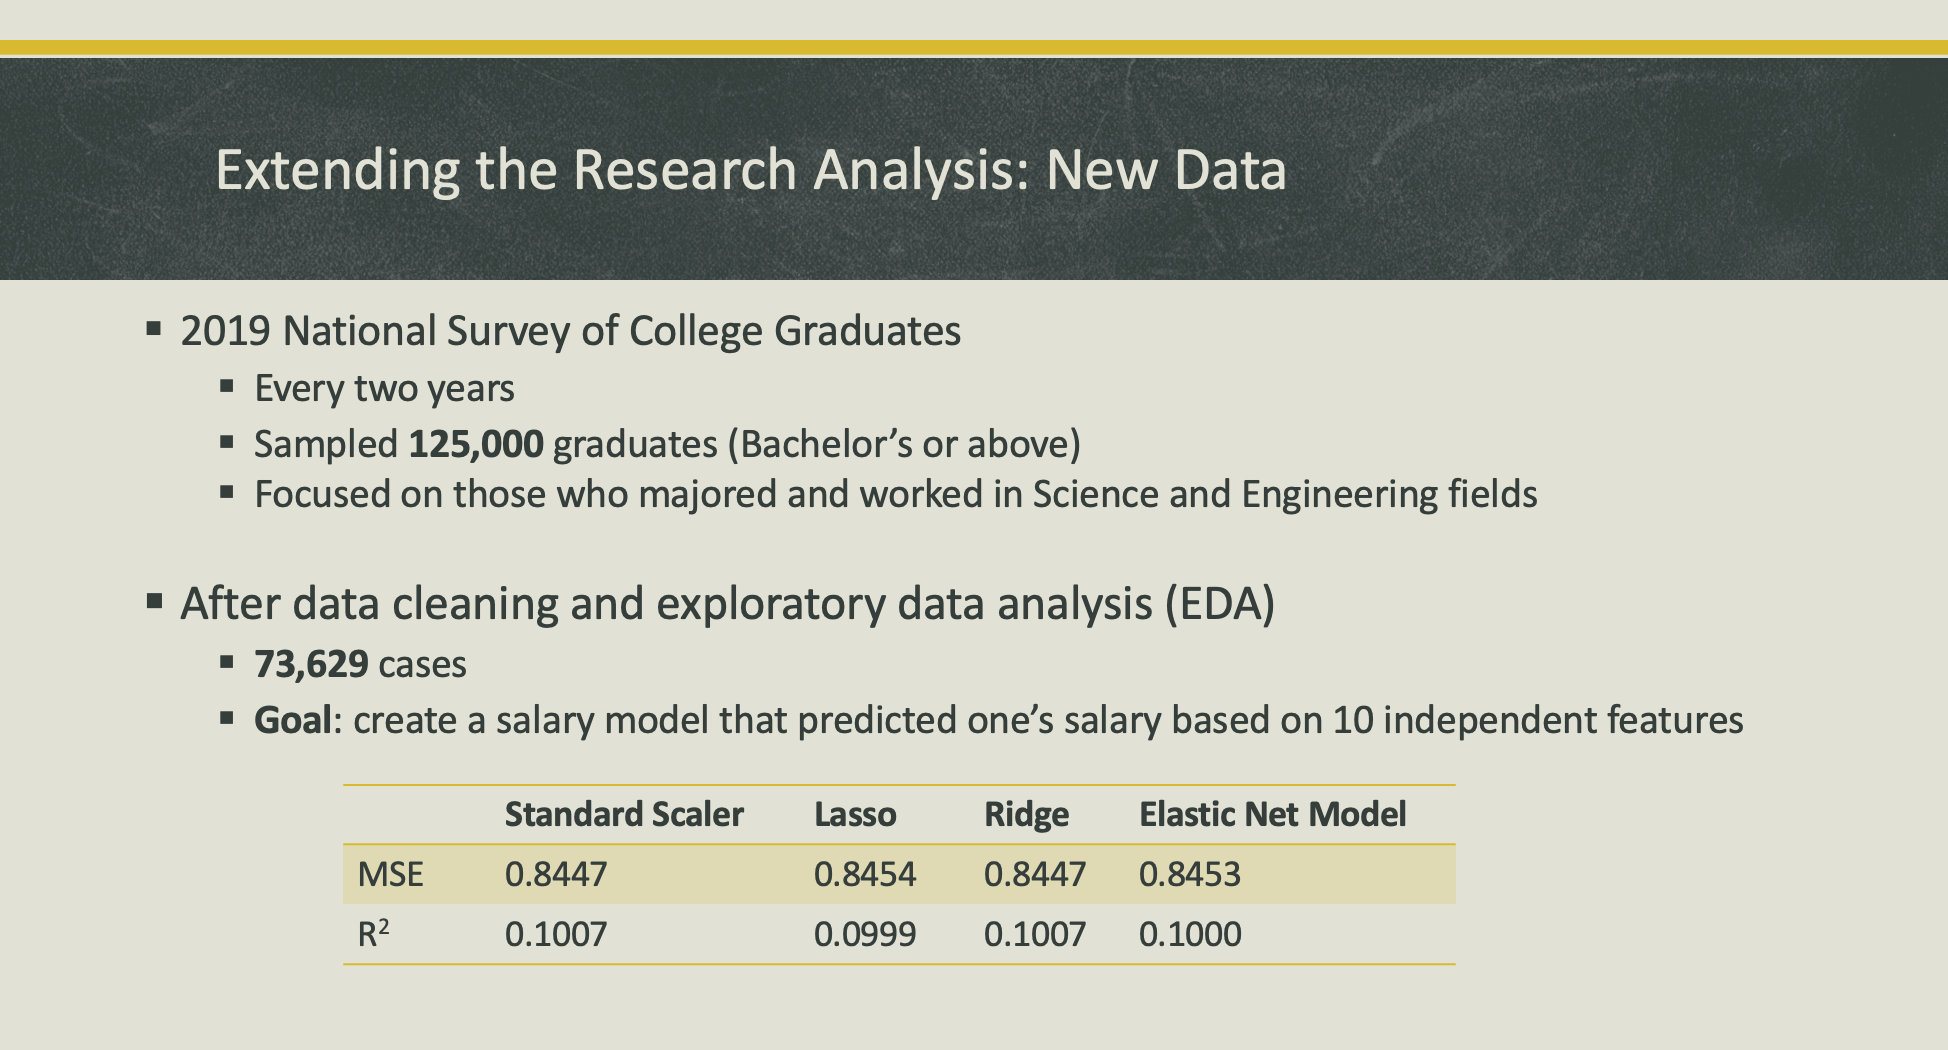

The dashboard page shown, as its layout file describes it:
{"tool":"tableau","page":{"name":"New Data","canvas":[975,550],"ordinal":2},"visuals":[{"type":"worksheet","box":[0,0,975,550]},{"type":"worksheet","param":"/Users/gigijones/Desktop/Screen Shot 2021-05-26 at 9.21.33 PM.png","box":[8,8,959,534]}]}

Visuals, with their boxes on the page's 975x550 design canvas (x1, y1, x2, y2). These are canvas units, not pixel positions in the 1948x1050 screenshot, which may show the page scaled, cropped or inside an application window:
worksheet: pyautogui.locateOnScreen(0, 0, 975, 550)
worksheet: pyautogui.locateOnScreen(8, 8, 967, 542)
